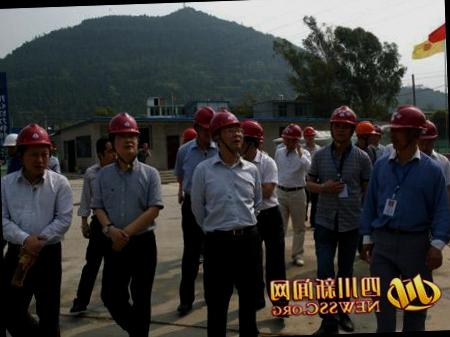no_helmet: (87, 134, 117, 170)
